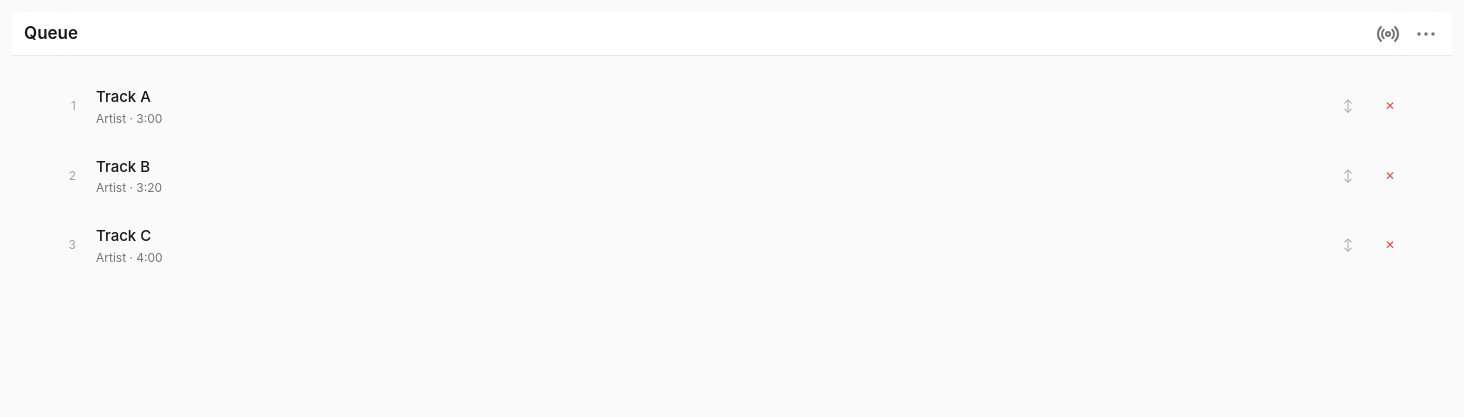
Test: QueueView › select mode › in select mode: bottom action bar is visible
Click the button with test id "queue-menu" at (1426, 34), box [1408, 16, 1444, 52]
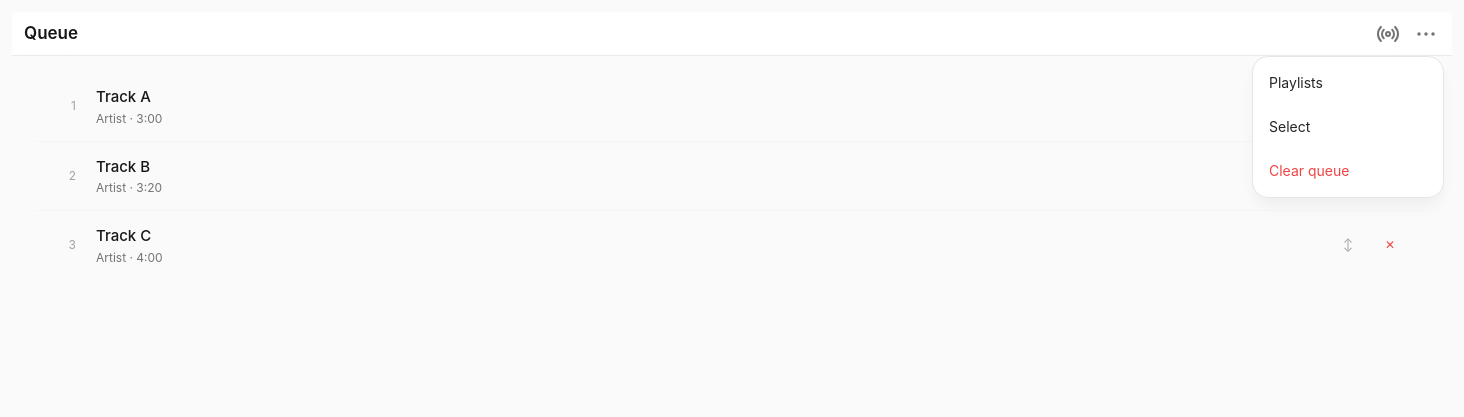
Click the menu item with test id "queue-select-mode-toggle" at (1348, 126), box [1257, 104, 1439, 148]
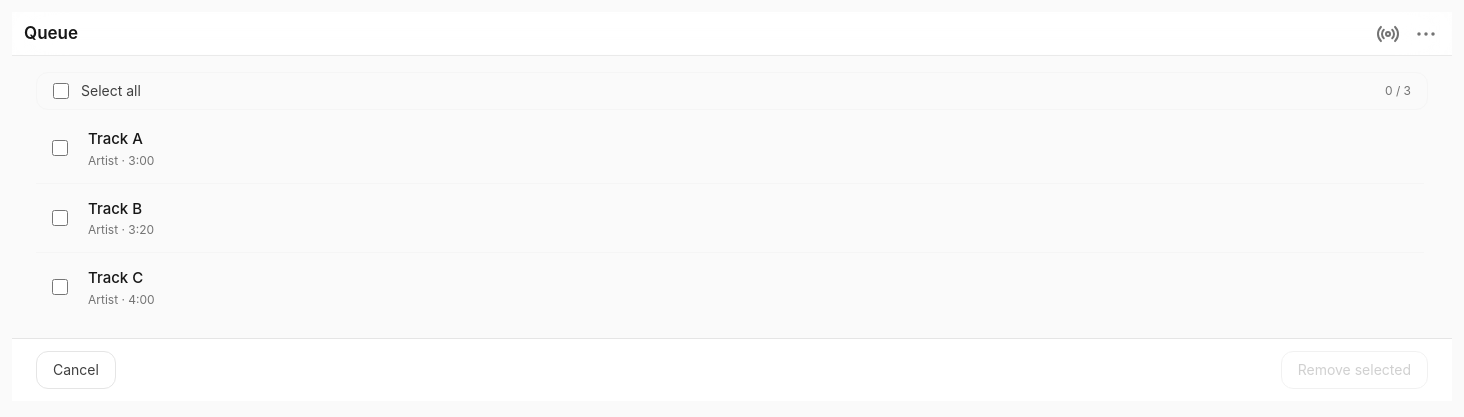
Expected: the element with test id "queue-select-action-bar" is shown, [12, 338, 1452, 400]
